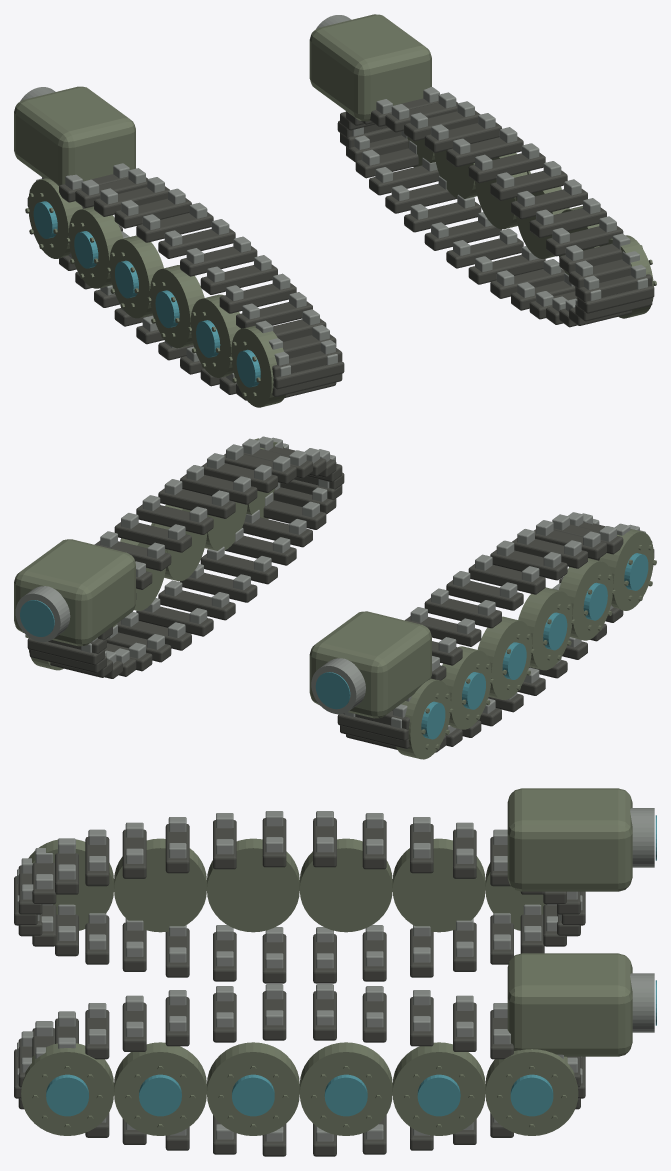
The model's file is tracks_2.glb.
3 views of the same model, one above another, from view 1: azimuth 30°, elevation 25°; view 2: azimuth 150°, elevation 25°; view 3: azimuth 270°, elevation 25° (orthographic). The views are drawn at different scales.
Parts seen in each view (by area): view 1: tracks_2; view 2: tracks_2; view 3: tracks_2.
Boxes of the visible parts, x1,y1,x2,y2 form: tracks_2: (14,14,656,407); tracks_2: (14,436,656,759); tracks_2: (14,788,656,1156).
Size of the model in its own units: 4.42 by 1.52 by 5.4.
